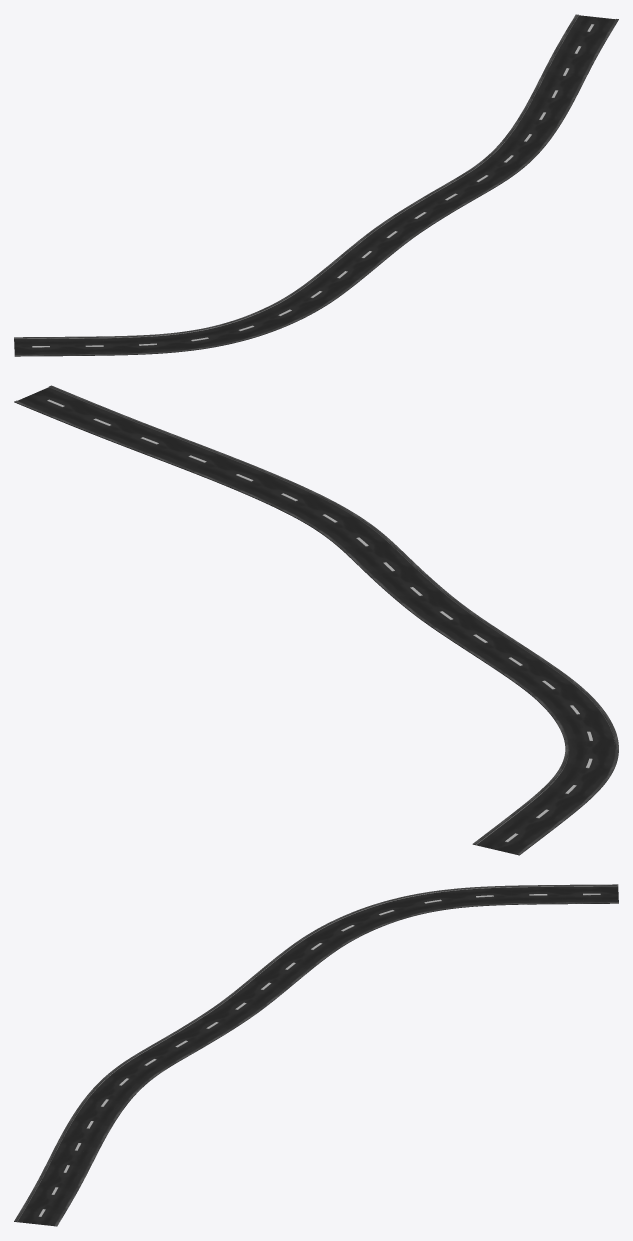
The model's file is Road.glb.
The picture shows the model from 3 angles, top to bottom: view 1: azimuth 90°, elevation 25°; view 2: azimuth 150°, elevation 25°; view 3: azimuth 270°, elevation 25°; orthographic projection. The views are drawn at different scales.
Parts seen in each view (by area): view 1: Plane; view 2: Plane; view 3: Plane.
Boxes of the visible parts, x1,y1,x2,y2 form: Plane: (14, 14, 618, 356); Plane: (14, 385, 618, 855); Plane: (14, 884, 618, 1226).
Size of the model in its own units: 66.48 by 0.044 by 49.76.
Materials: 1 (1 with a texture image).
